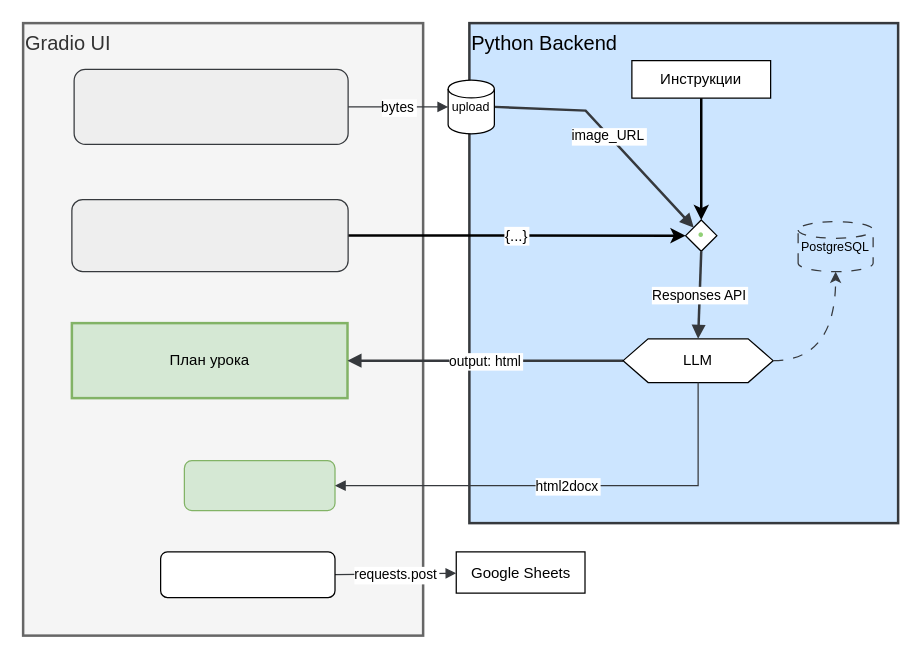
This 920x658 diagram has some shape labels left out. The shapes that lost their labels are listed below. From the top down, each one's centre as x and y in pixels, then its label:
At point 210,106: "Фото учебного материала".
At point 209,235: "Параметры: методика, CEFR, age...".
At point 259,485: "скачать docx".
At point 247,574: "Форма обратной связи".
